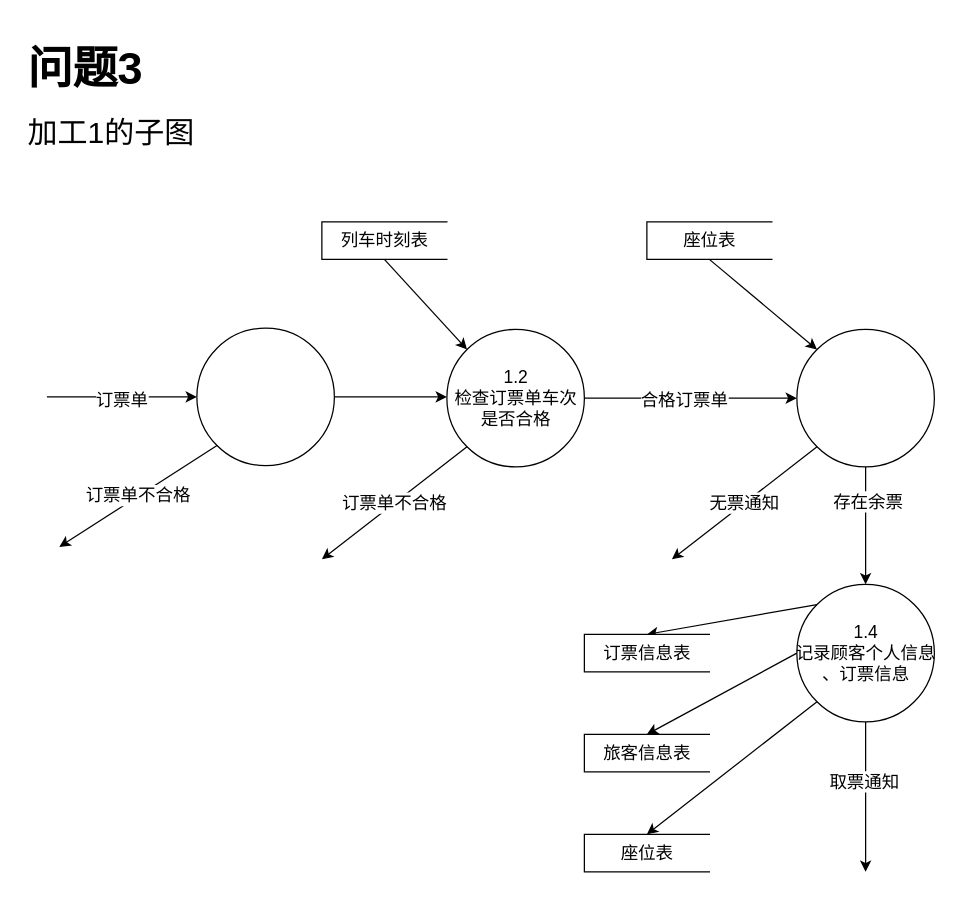
The diagram is 956 pixels wide and 904 high, and some of its shapes have lost their labels. The centre of each missing label's shape, as x and y in pixels:
"1.1 检查订票单 个人信息 是否合格" goes at (x=265, y=396).
"1.3 查找是否有 剩余车票" goes at (x=865, y=397).
